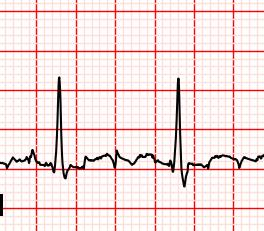ST Depression: (160, 155, 196, 192)
